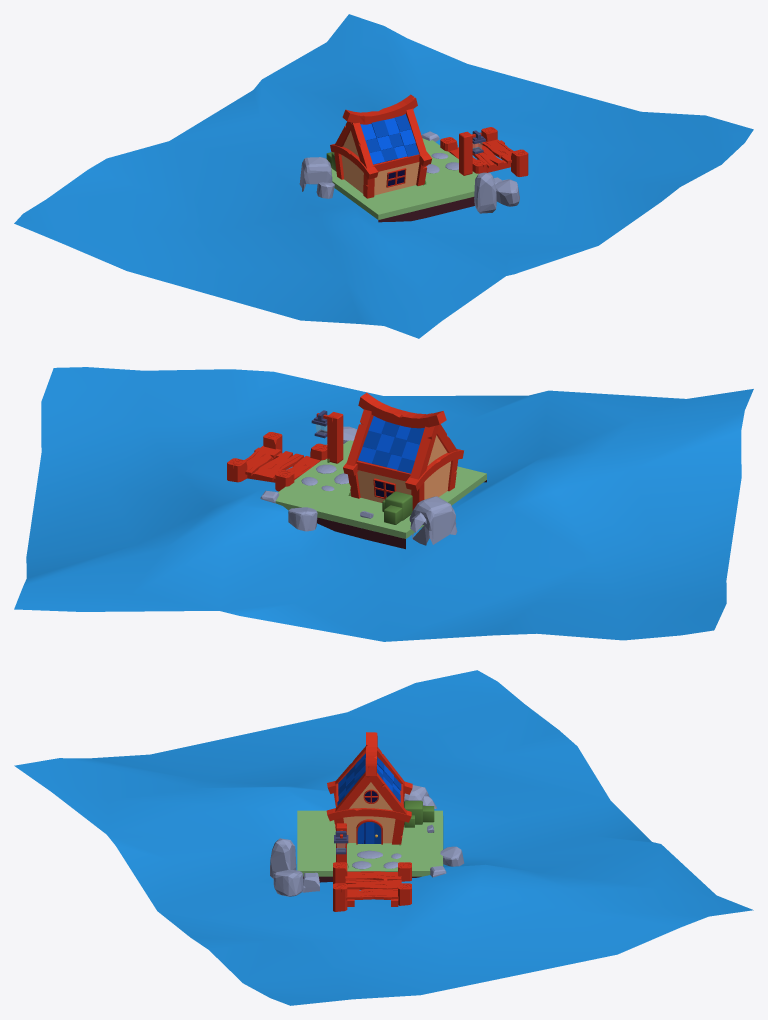
Rendered from house.glb.
The picture shows the model from 3 angles, top to bottom: view 1: azimuth 30°, elevation 25°; view 2: azimuth 150°, elevation 25°; view 3: azimuth 270°, elevation 25°; orthographic projection. The views are drawn at different scales.
Visible parts, largest first — view 1: Sea, Base, PAREDES, Cubo.004, Cubo.103, Cubo.056, Cubo.046, Cubo.102; view 2: Sea, Base, PAREDES, Cubo.056, Cubo.004, Cubo.046, Cubo.006, Cubo.041, Cubo.026, Cubo.005, Cubo.055, Cubo.038 (+2 smaller); view 3: Sea, Base, PAREDES, Cubo.103, Cubo.001, Cubo.102, puerta, Cubo.038.
Part boxes in pixels (x1=…): Sea: x1=14, y1=14, x2=753, y2=338; Base: x1=331, y1=138, x2=478, y2=222; PAREDES: x1=341, y1=130, x2=419, y2=195; Cubo.004: x1=342, y1=94, x2=417, y2=124; Cubo.103: x1=474, y1=172, x2=496, y2=213; Cubo.056: x1=299, y1=157, x2=332, y2=191; Cubo.046: x1=459, y1=131, x2=472, y2=175; Cubo.102: x1=495, y1=179, x2=519, y2=206; Sea: x1=14, y1=367, x2=753, y2=641; Base: x1=275, y1=440, x2=486, y2=549; PAREDES: x1=357, y1=435, x2=450, y2=502; Cubo.056: x1=409, y1=496, x2=457, y2=545; Cubo.004: x1=358, y1=392, x2=446, y2=428; Cubo.046: x1=327, y1=412, x2=343, y2=463; Cubo.006: x1=410, y1=425, x2=439, y2=479; Cubo.041: x1=254, y1=451, x2=303, y2=480; Cubo.026: x1=405, y1=449, x2=463, y2=490; Cubo.005: x1=346, y1=409, x2=373, y2=465; Cubo.055: x1=288, y1=507, x2=317, y2=531; Cubo.038: x1=244, y1=445, x2=281, y2=475; Sea: x1=14, y1=670, x2=753, y2=1005; Base: x1=297, y1=810, x2=443, y2=882; PAREDES: x1=343, y1=782, x2=395, y2=843; Cubo.103: x1=270, y1=838, x2=296, y2=878; Cubo.001: x1=326, y1=808, x2=411, y2=822; Cubo.102: x1=273, y1=869, x2=303, y2=896; puerta: x1=356, y1=819, x2=382, y2=844; Cubo.038: x1=345, y1=888, x2=398, y2=899.
Bounding box in the file's own units: 70.86 × 10.61 × 66.
